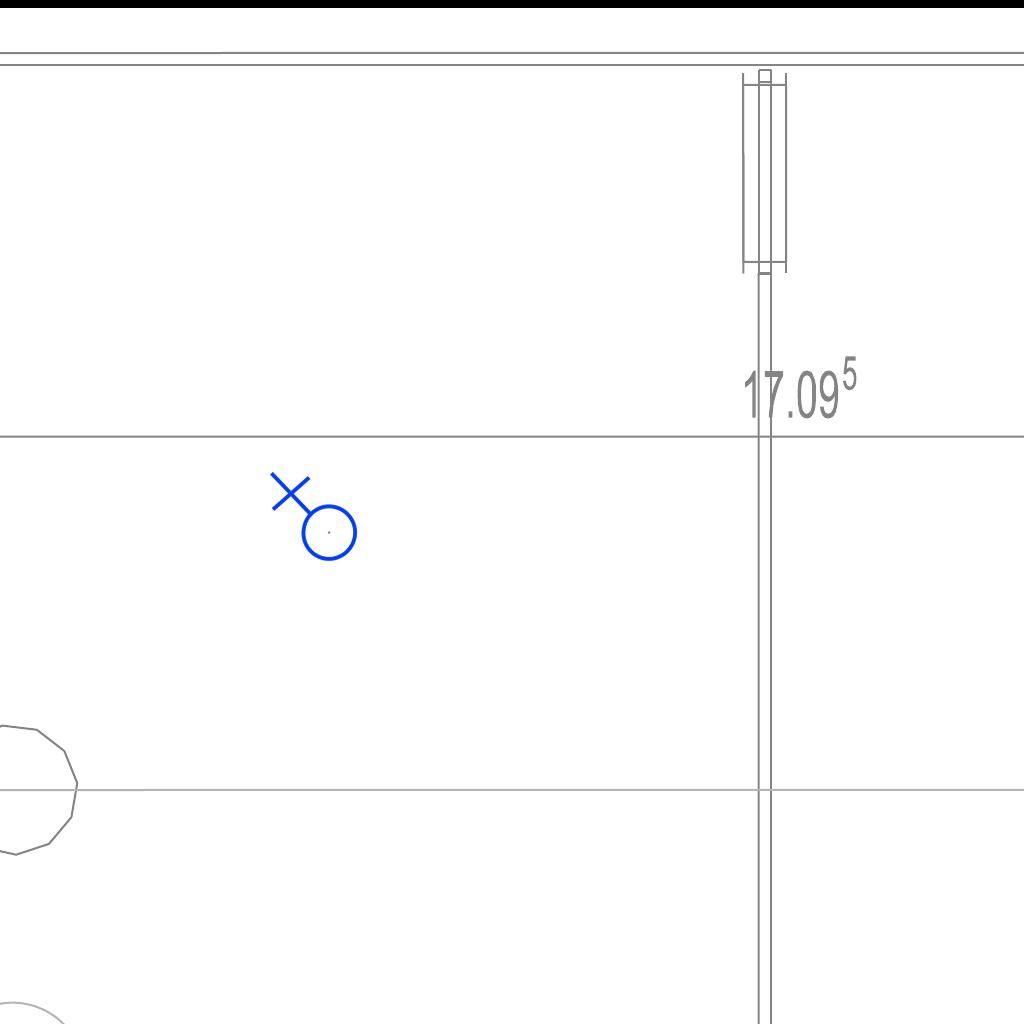Elektroanschluss_allgemein_230V_Geraeteanschlussdose_230V: (265, 471, 359, 570)
